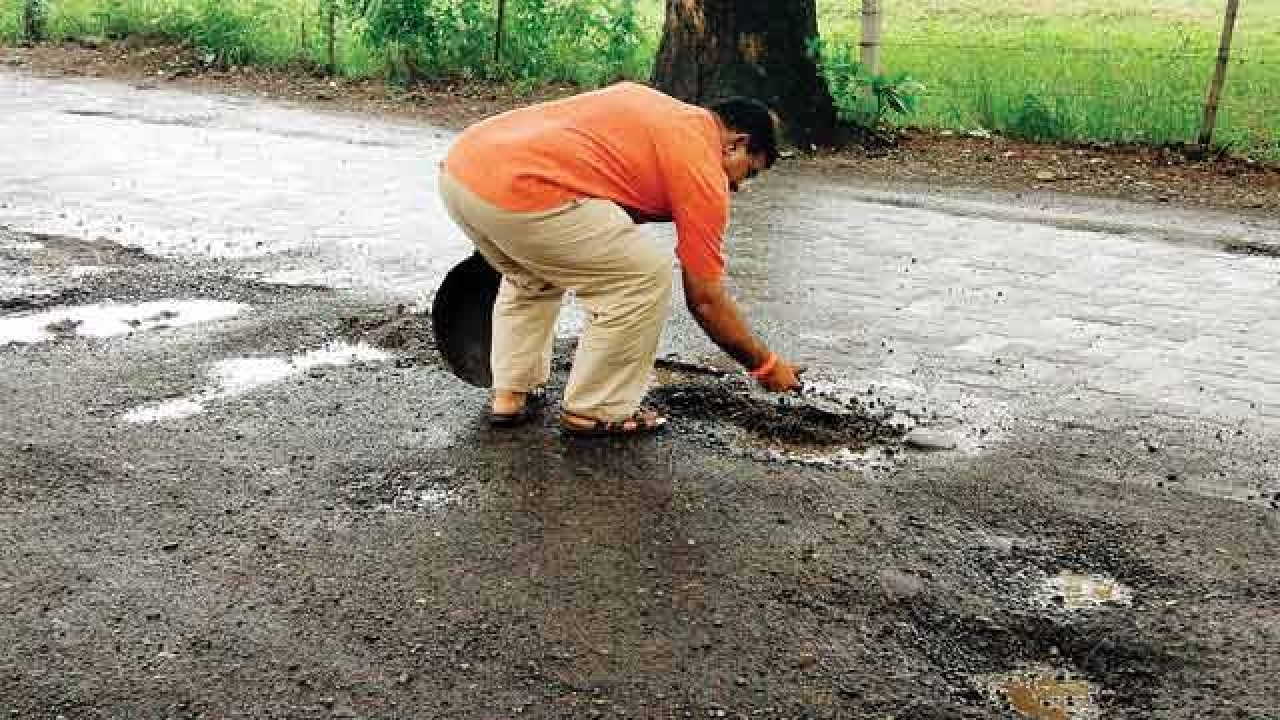pothole: (0, 247, 275, 363), (680, 384, 892, 469), (982, 521, 1147, 619), (959, 637, 1116, 717)
